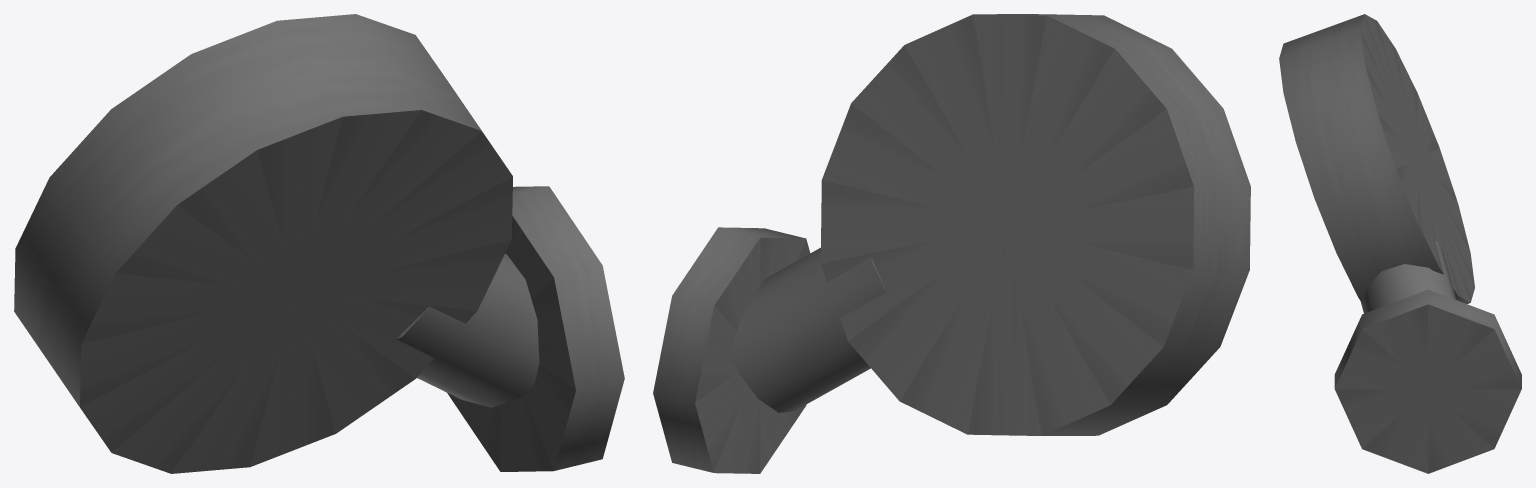
Rendered from mastarmcurve_6x2_c3_east.obj.
The picture shows the model from 3 angles, left to right: view 1: azimuth 30°, elevation 25°; view 2: azimuth 150°, elevation 25°; view 3: azimuth 270°, elevation 25°; orthographic projection. The views are drawn at different scales.
Parts seen in each view (by area): view 1: mastarm_6x2_c3_east; view 2: mastarm_6x2_c3_east; view 3: mastarm_6x2_c3_east.
Boxes of the visible parts, x1,y1,x2,y2 form: mastarm_6x2_c3_east: (14, 14, 624, 473); mastarm_6x2_c3_east: (653, 14, 1250, 473); mastarm_6x2_c3_east: (1279, 14, 1521, 473).
Size of the model in its own units: 0.8282 by 0.8163 by 0.5188.
